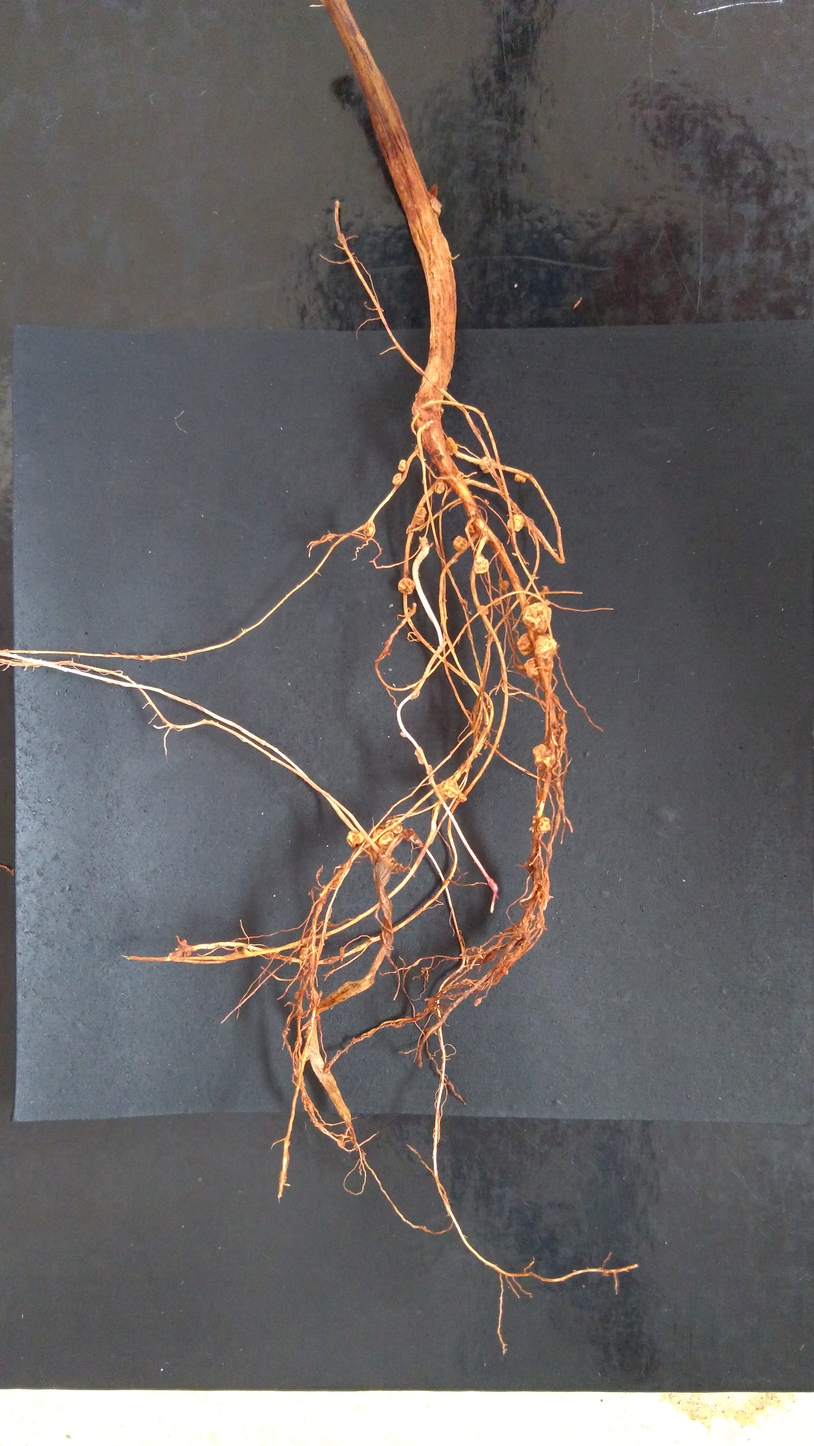nodule: (522, 602, 552, 634), (532, 744, 557, 770), (524, 657, 554, 678), (434, 779, 463, 799), (535, 633, 557, 659), (372, 828, 395, 849), (425, 190, 442, 217), (517, 632, 535, 655), (511, 917, 529, 939), (366, 845, 386, 863), (508, 513, 526, 532), (346, 830, 365, 847), (479, 456, 497, 473), (403, 828, 421, 845), (398, 578, 415, 595), (473, 556, 489, 573), (537, 816, 552, 834), (385, 819, 403, 834), (177, 940, 192, 957), (453, 535, 468, 551), (445, 437, 458, 455), (537, 887, 551, 903), (263, 946, 280, 959), (299, 947, 310, 967), (414, 746, 425, 765), (363, 521, 375, 537), (482, 950, 497, 962), (466, 519, 477, 534), (466, 504, 479, 516), (434, 481, 445, 494), (392, 473, 402, 485), (477, 605, 489, 615), (514, 474, 527, 483), (415, 508, 426, 518), (398, 460, 407, 472), (425, 764, 434, 776), (455, 793, 467, 802), (499, 580, 509, 590), (414, 517, 425, 525), (337, 1136, 345, 1147), (473, 997, 482, 1006), (557, 711, 565, 720), (332, 880, 340, 889), (528, 911, 536, 920), (294, 1037, 303, 1045), (493, 598, 502, 605), (459, 598, 468, 605), (502, 966, 509, 975), (532, 814, 538, 824), (294, 991, 301, 999), (542, 585, 549, 592), (400, 731, 407, 738), (528, 826, 535, 833), (420, 966, 427, 973), (536, 921, 542, 929), (408, 524, 414, 532), (484, 499, 489, 505), (525, 601, 530, 606), (307, 1025, 311, 1030), (440, 408, 444, 413), (323, 936, 328, 940), (322, 885, 326, 889)
